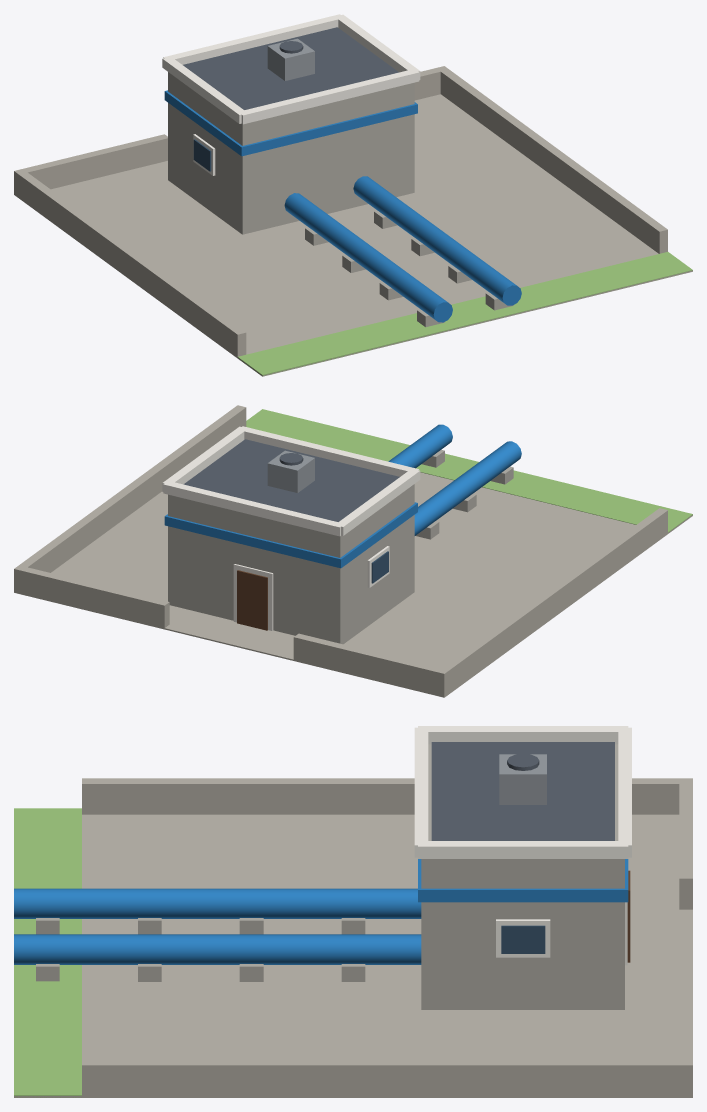
The model's file is riverpump.glb.
3 views of the same model, one above another, from view 1: azimuth 30°, elevation 25°; view 2: azimuth 150°, elevation 25°; view 3: azimuth 270°, elevation 25° (orthographic). The views are drawn at different scales.
Visible parts, largest first — view 1: gravel, pump_house, yard_wall (×4), grass_bank, intake_pipe (×2), roof, parapet (×4), accent_stripe, ac_unit_body; view 2: gravel, yard_wall (×4), pump_house, grass_bank, roof, parapet (×4), intake_pipe (×2), accent_stripe, door, ac_unit_body, door_frame; view 3: gravel, yard_wall (×4), pump_house, intake_pipe (×2), roof, grass_bank, parapet (×4), accent_stripe, ac_unit_body, window_glass, window_frame.
Boxes of the visible parts, x1,y1,x2,y2 form: gravel: (14,94,692,376); pump_house: (168,72,414,234); yard_wall (×4): (14,66,667,356); grass_bank: (238,252,692,376); intake_pipe (×2): (284,176,521,322); roof: (183,27,398,109); parapet (×4): (162,14,420,124); accent_stripe: (164,90,417,156); ac_unit_body: (267,38,314,80); gravel: (14,472,692,697); yard_wall (×4): (14,405,667,696); pump_house: (168,484,414,644); grass_bank: (246,409,692,532); roof: (183,439,399,521); parapet (×4): (162,426,420,536); intake_pipe (×2): (388,424,521,535); accent_stripe: (164,502,417,568); door: (237,570,267,630); ac_unit_body: (267,450,314,492); door_frame: (233,564,273,630); gravel: (14,814,692,1097); yard_wall (×4): (82,778,692,1095); pump_house: (421,744,624,1009); intake_pipe (×2): (14,888,421,964); roof: (431,742,614,840); grass_bank: (14,808,81,1097); parapet (×4): (414,726,631,858); accent_stripe: (418,859,628,902); ac_unit_body: (499,754,546,804); window_glass: (501,925,545,953); window_frame: (496,919,550,957).
Bounding box in the file's own units: 20 × 6.3 × 20.
